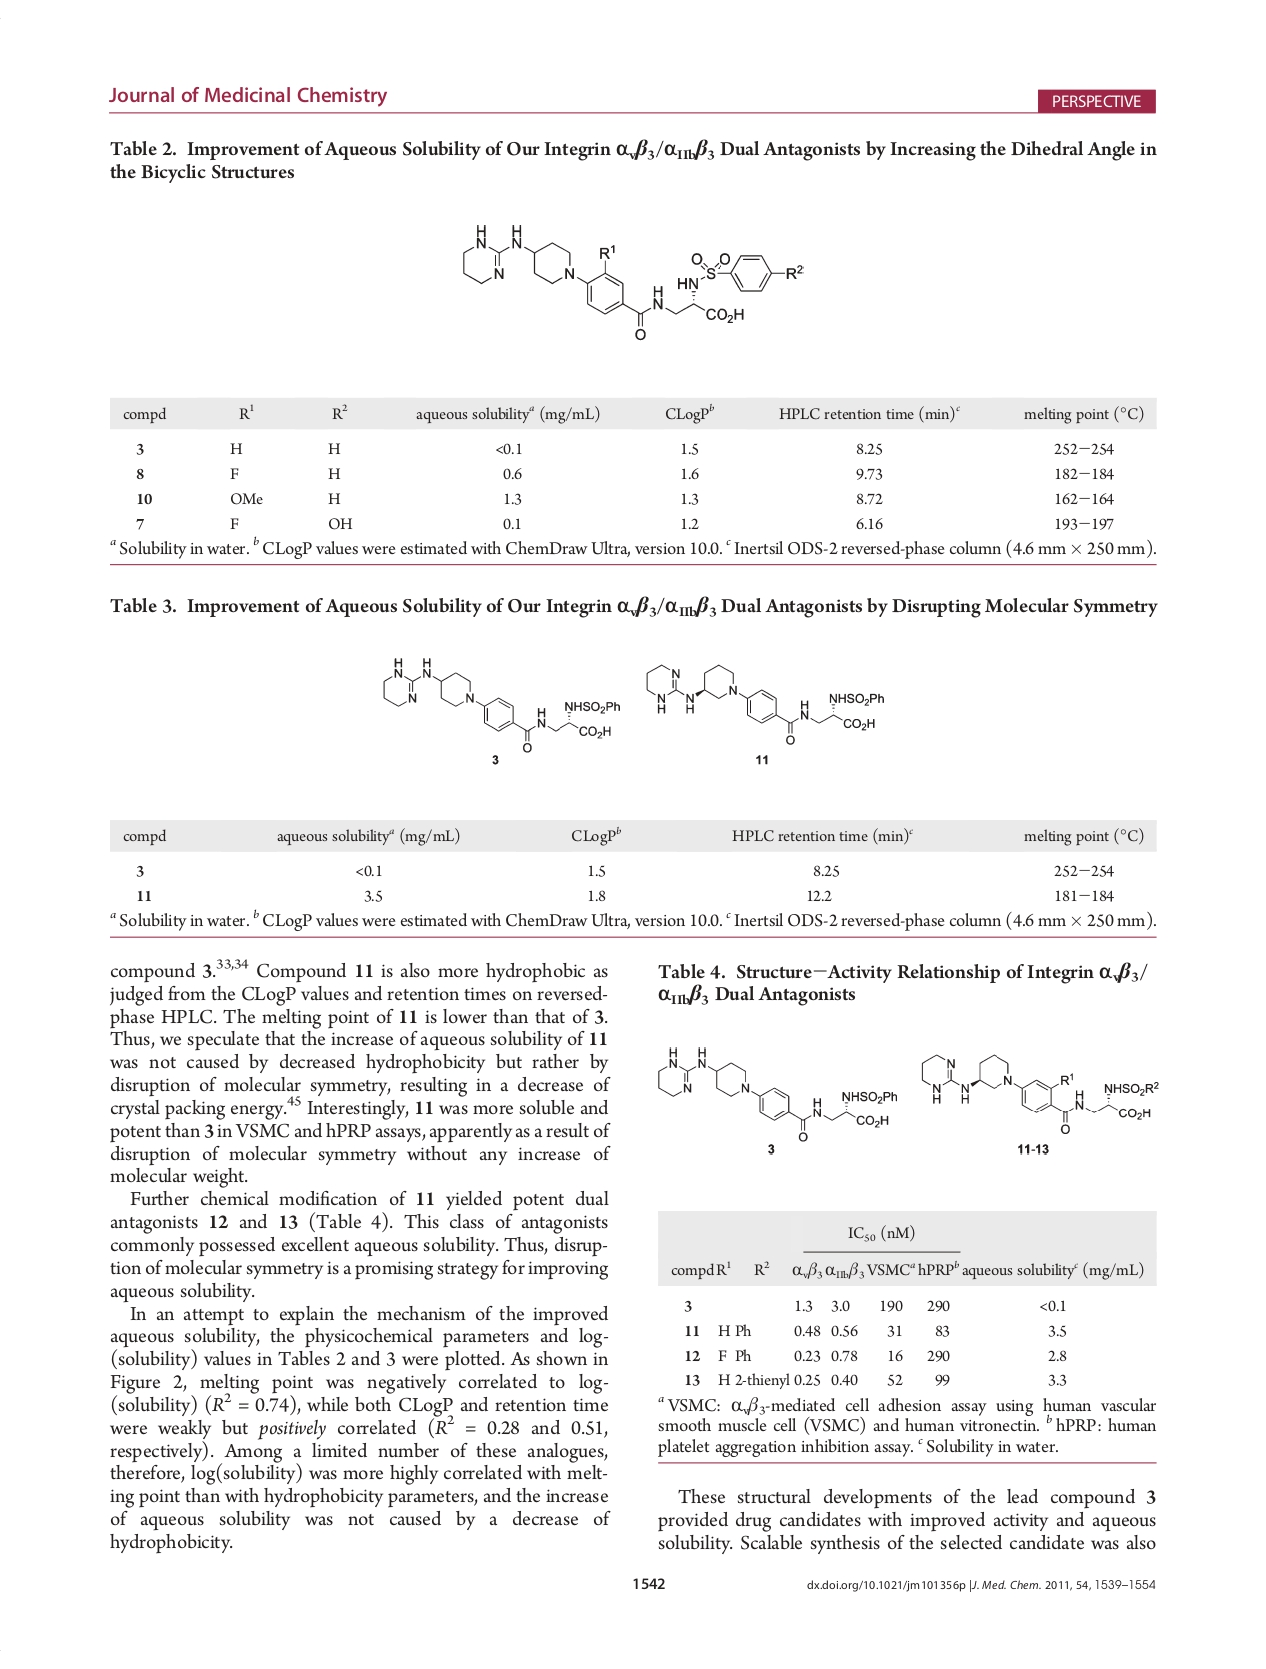exist_molecular: (459, 218, 809, 346), (376, 654, 622, 755), (656, 1044, 899, 1145), (640, 660, 888, 749), (915, 1051, 1160, 1137)
